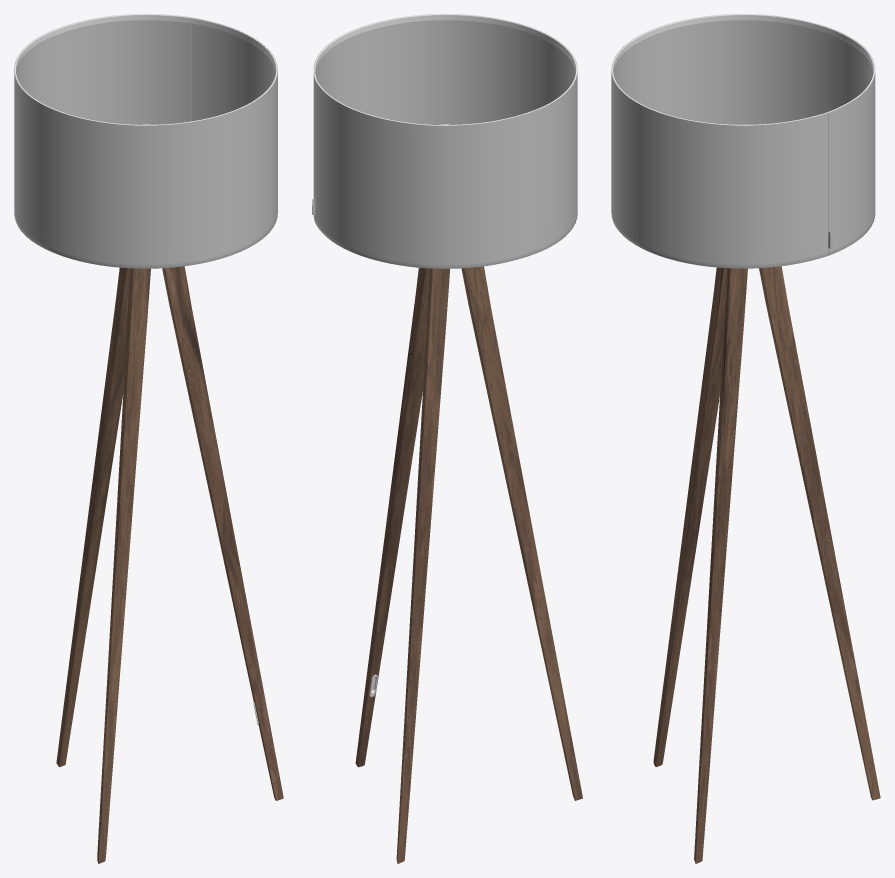
The model's file is light.glb.
The picture shows the model from 3 angles, left to right: view 1: azimuth 30°, elevation 25°; view 2: azimuth 150°, elevation 25°; view 3: azimuth 270°, elevation 25°; orthographic projection.
Visible parts, largest first — view 1: Lamp_03; view 2: Lamp_03; view 3: Lamp_03.
Part boxes in pixels (x1,y1,x2,y2): Lamp_03: [14, 14, 283, 863]; Lamp_03: [312, 14, 582, 863]; Lamp_03: [611, 14, 880, 863].
Bounding box in the file's own units: 0.5001 × 1.54 × 0.5099.
Materials: 4 (1 with a texture image).
